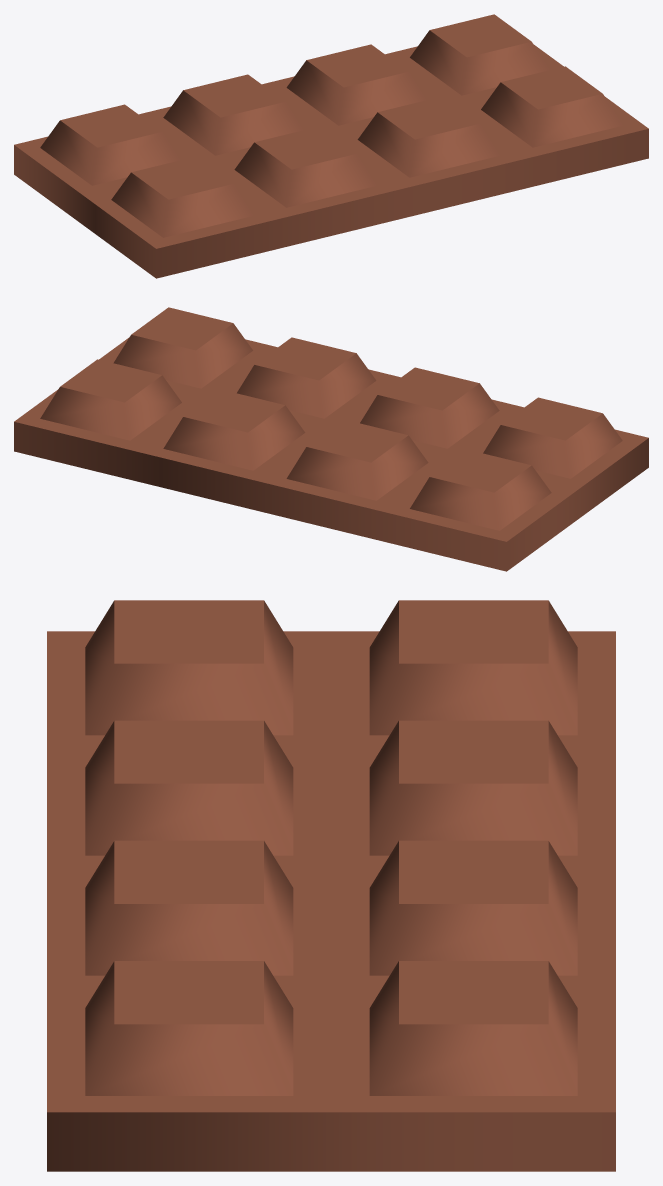
The model's file is chocolate.glb.
3 renders of one model, top to bottom at view 1: azimuth 30°, elevation 25°; view 2: azimuth 150°, elevation 25°; view 3: azimuth 270°, elevation 25°, orthographic. The views are drawn at different scales.
Parts seen in each view (by area): view 1: chocolate; view 2: chocolate; view 3: chocolate.
Boxes of the visible parts, box(x1,y1,x2,y2) form: chocolate: box(14, 14, 648, 278); chocolate: box(14, 307, 648, 571); chocolate: box(47, 600, 615, 1171).
Bounding box in the file's own units: 0.2924 × 0.0337 × 0.1462.
